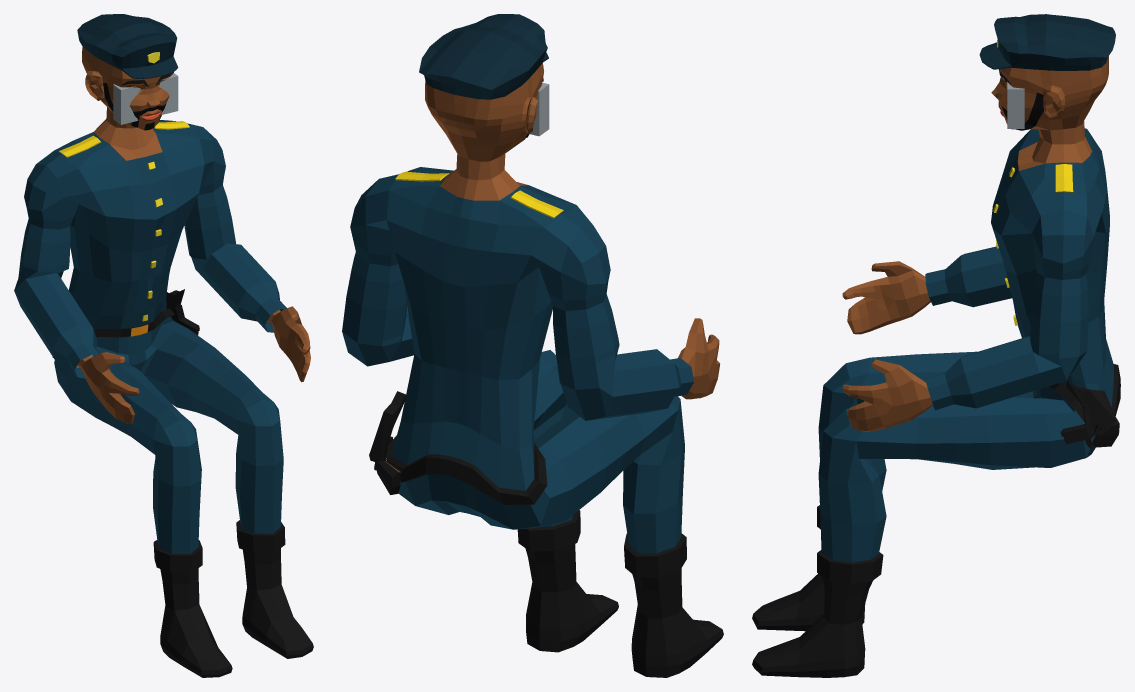
The model's file is Police_Sit_Mask.fbx.
3 renders of one model, left to right at view 1: azimuth 30°, elevation 25°; view 2: azimuth 150°, elevation 25°; view 3: azimuth 270°, elevation 25°, orthographic. The views are drawn at different scales.
Visible parts, largest first — view 1: Police_Sit_Mask; view 2: Police_Sit_Mask; view 3: Police_Sit_Mask.
Boxes of the visible parts, x1=… form: Police_Sit_Mask: x1=14, y1=14, x2=313, y2=677; Police_Sit_Mask: x1=342, y1=14, x2=723, y2=677; Police_Sit_Mask: x1=752, y1=14, x2=1120, y2=677.
Bounding box in the file's own units: 0.3759 × 0.8661 × 0.4637.
